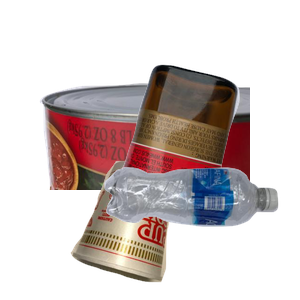glass: (113, 62, 300, 242)
metal: (37, 81, 277, 261)
plastic: (102, 165, 300, 300)
trash: (68, 158, 235, 300)
